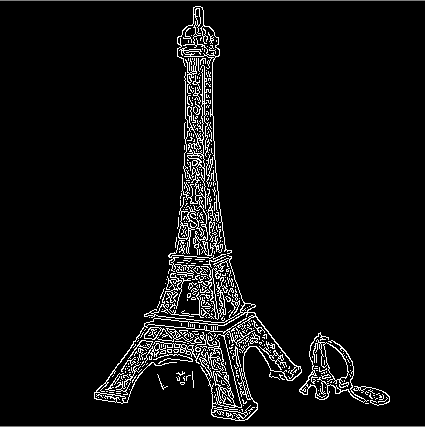eiffel tower: (77, 4, 301, 418), (304, 322, 341, 399)
